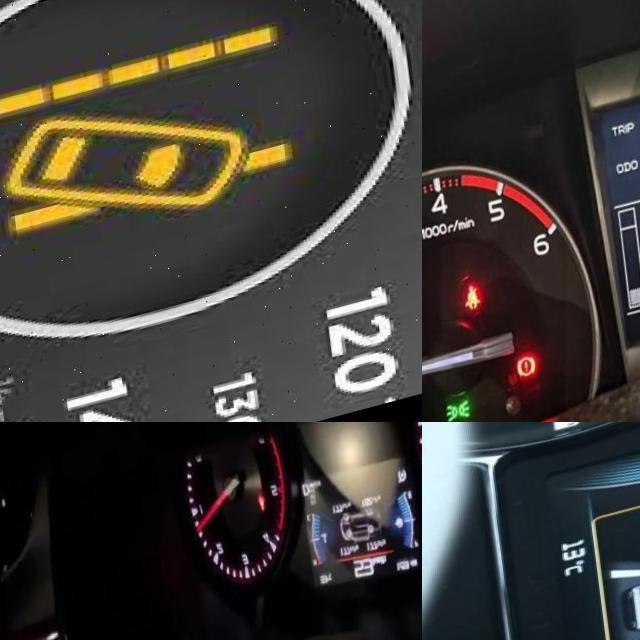Seat Belt: (450, 288, 472, 320), (248, 507, 258, 527)
